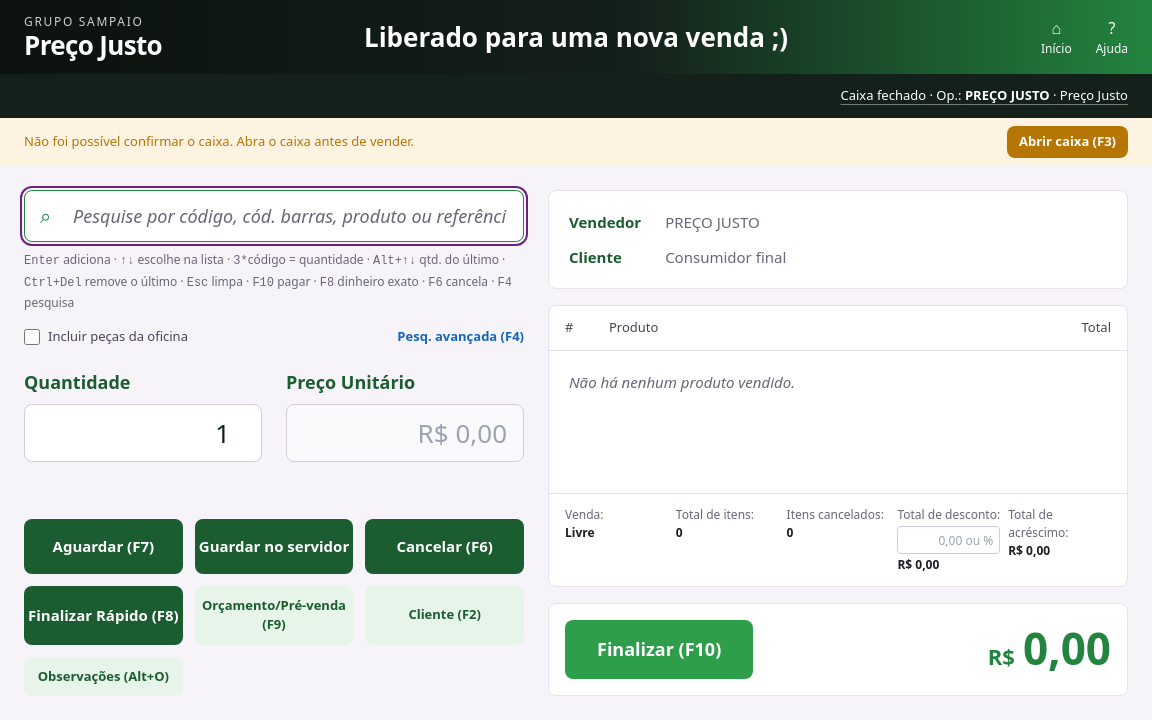
F-01: a nota que não vai sair › ERRO com a fila morta: "sem nota", com o motivo
In the field labelled "Pesquise por código, cód. barras, produto ou referência": [274, 216] box [24,190,524,242], type "7898215151784"
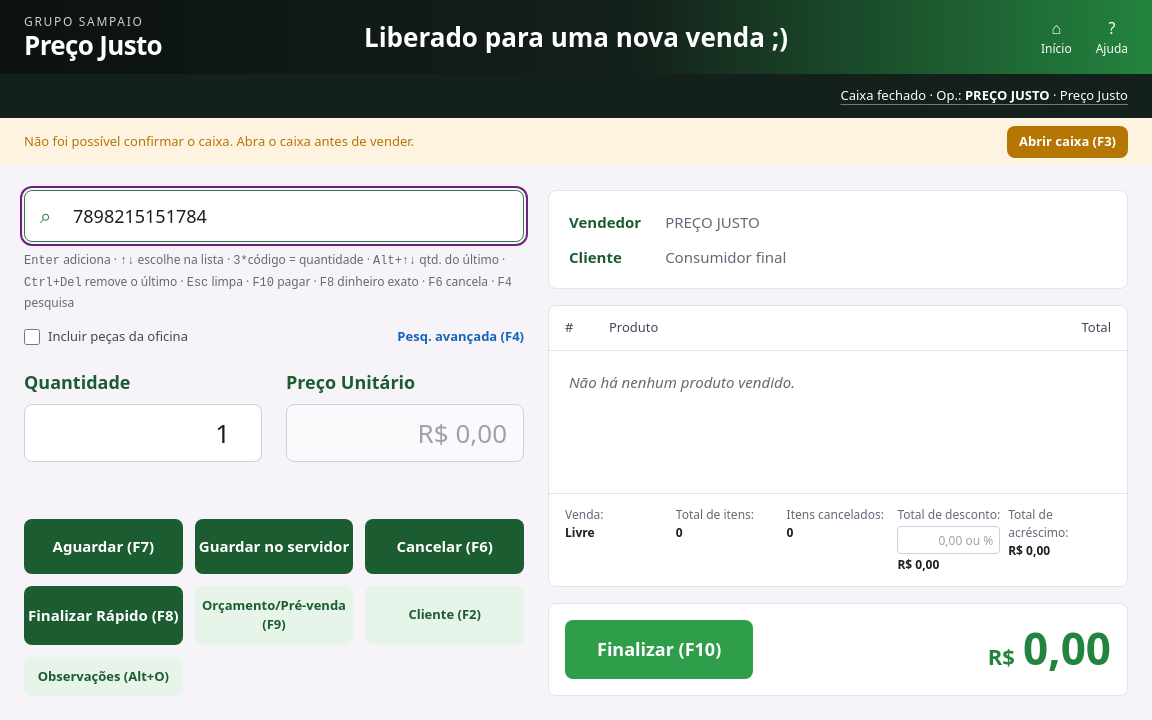
Press Enter in the field named "Pesquise por código", box [24,190,524,242]
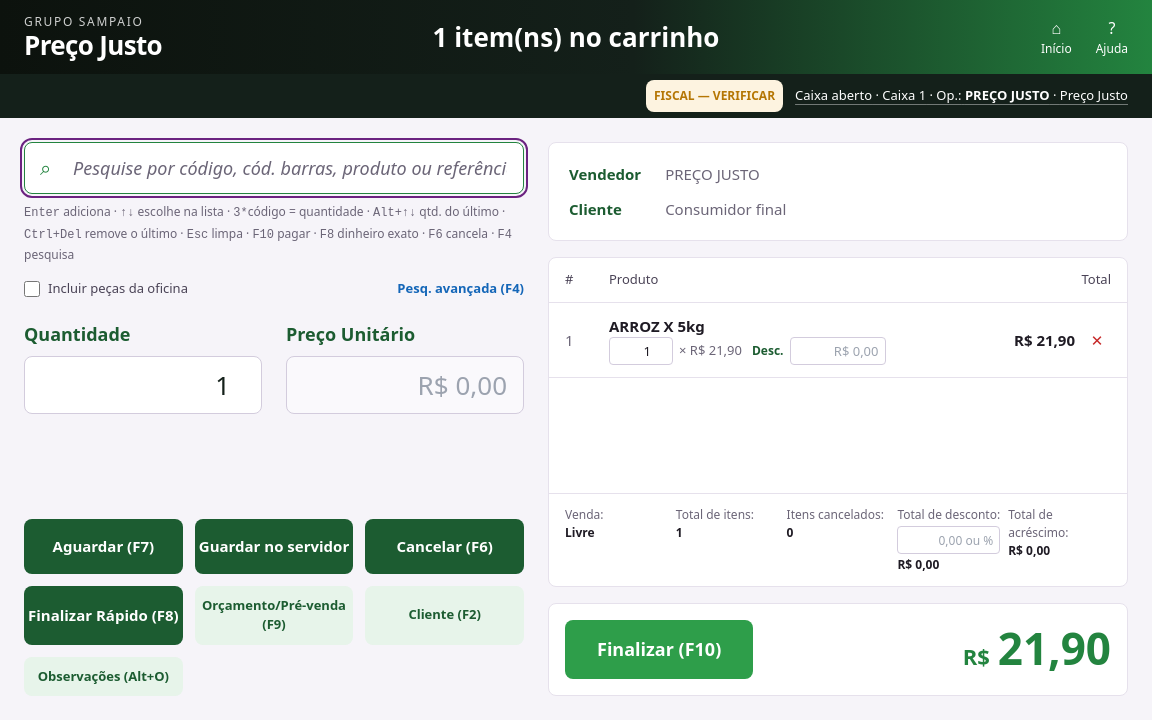
Press F8 in the field labelled "Pesquise por código, cód. barras, produto ou referência", box [24,142,524,194]
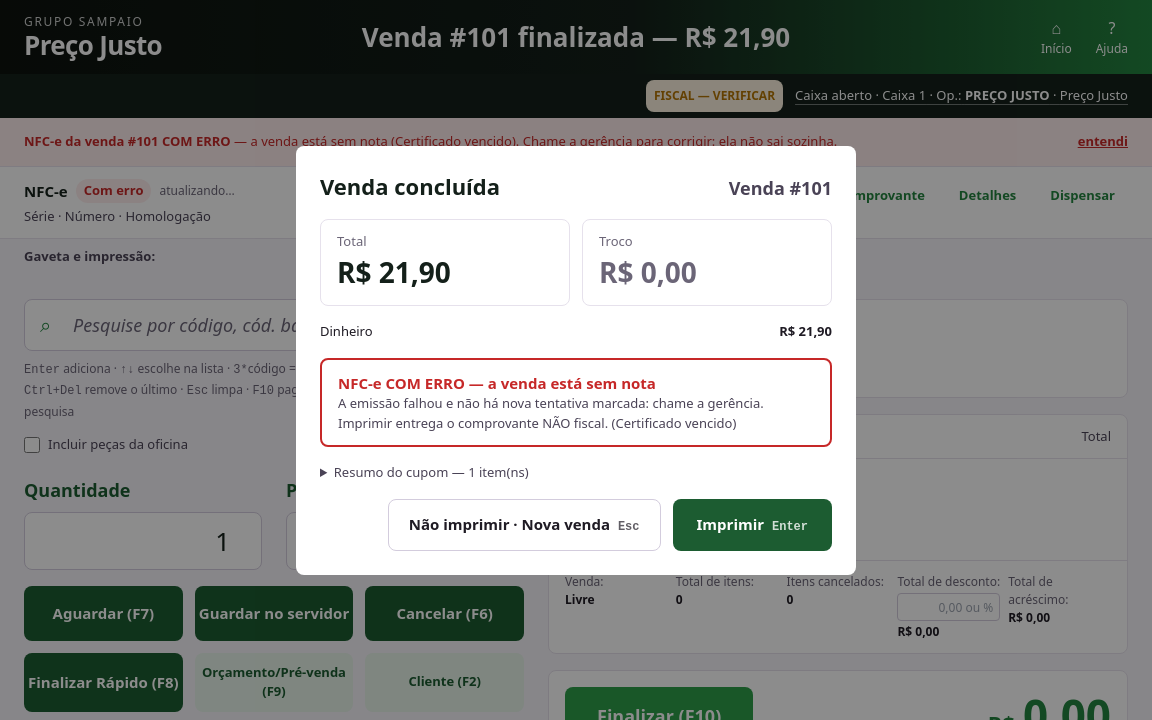
expect the message with test id "venda-concluida-fiscal" shows "Certificado vencido": met, box [608,414,736,432]
